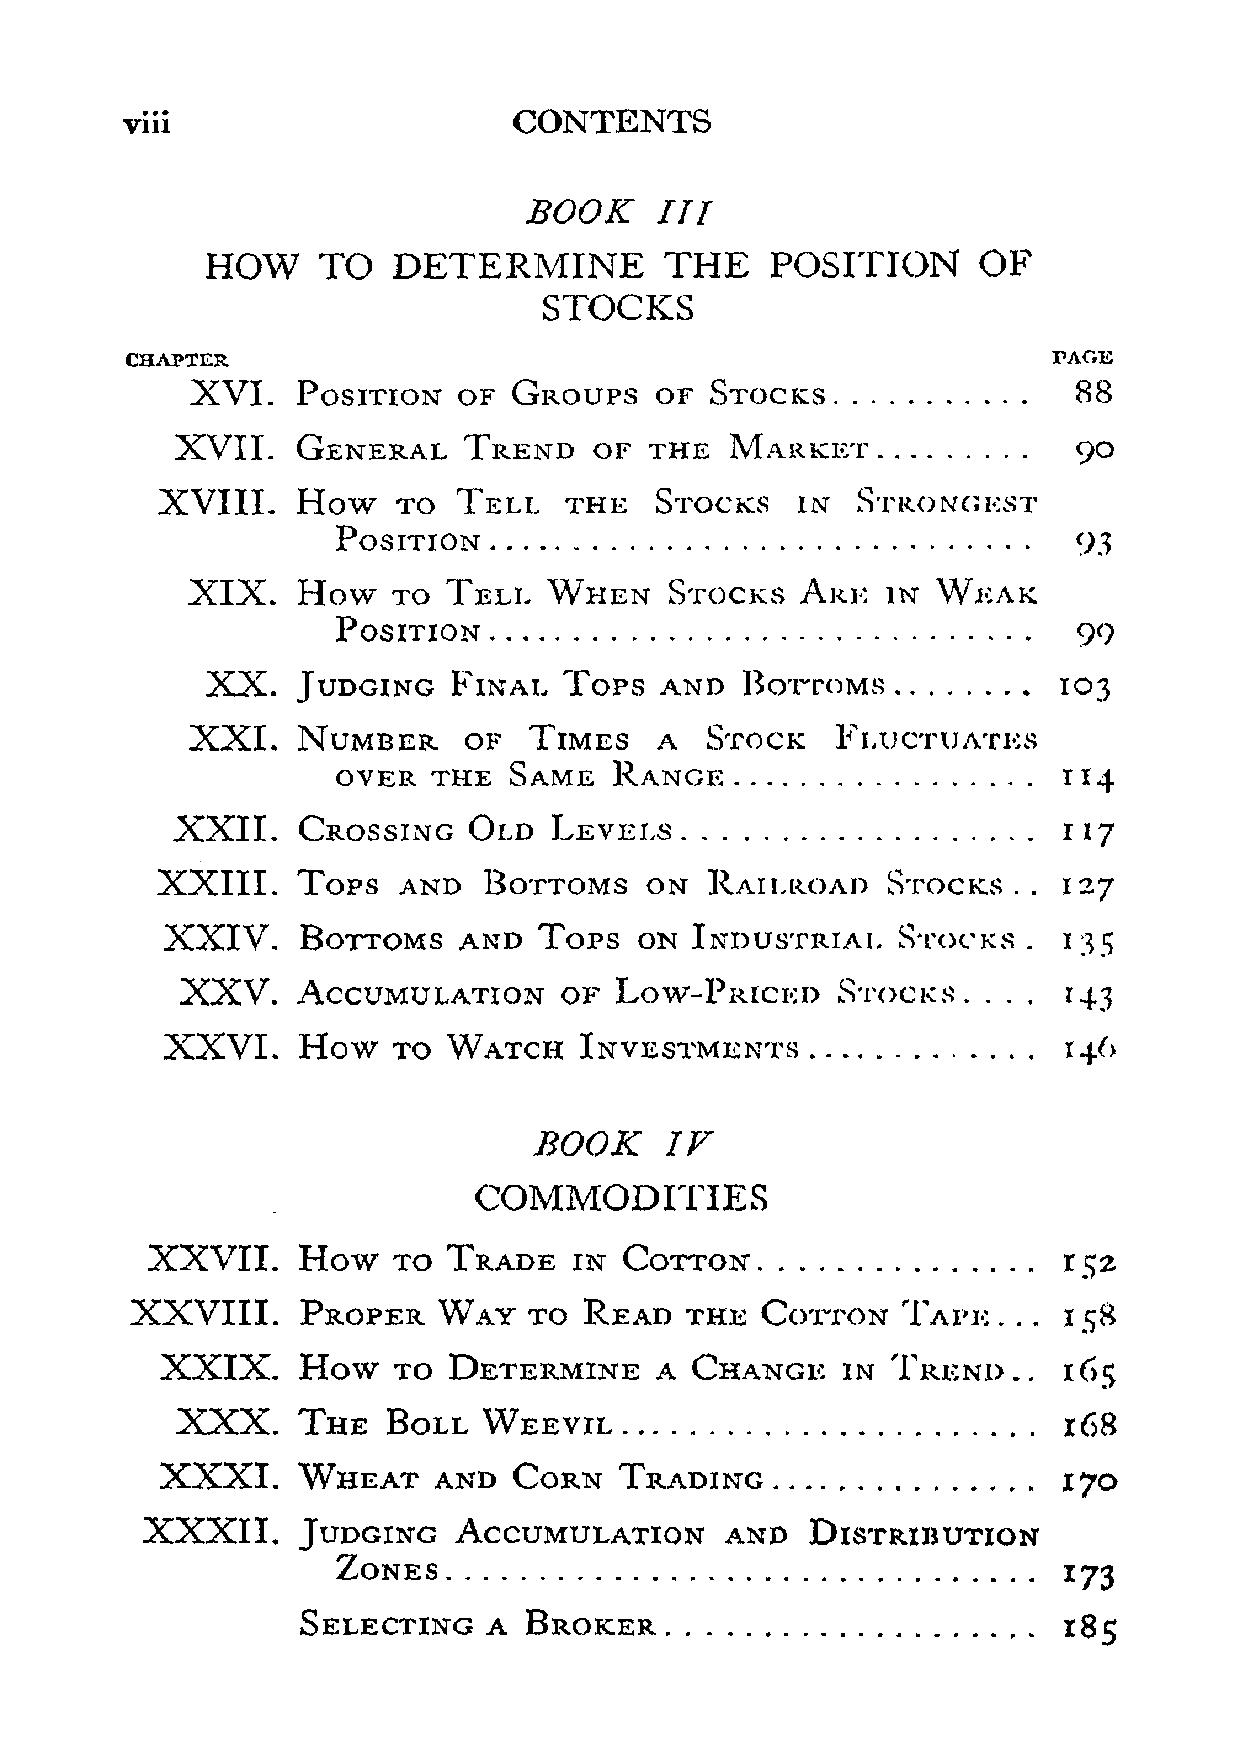TOC_chapter: (189, 183, 1051, 326), (170, 562, 1037, 654), (132, 1504, 1049, 1586), (144, 476, 1040, 557), (180, 713, 1041, 790), (156, 910, 1028, 962), (156, 1342, 1012, 1392), (125, 1287, 1001, 1333), (169, 969, 965, 1017), (178, 365, 836, 419), (462, 1106, 784, 1215), (146, 864, 1002, 905), (156, 1023, 804, 1072), (195, 660, 887, 705), (146, 1225, 756, 1275), (164, 427, 874, 468), (150, 1452, 770, 1496), (169, 798, 683, 845), (285, 1598, 658, 1651), (178, 1401, 617, 1444)
TOC_pagenumber: (1052, 1290, 1125, 1339), (1059, 1349, 1127, 1397), (1053, 1241, 1125, 1284), (1056, 1609, 1129, 1651), (1059, 1397, 1129, 1440), (1062, 1550, 1125, 1596), (1059, 1457, 1125, 1500), (1059, 862, 1117, 910), (1053, 754, 1118, 797), (1049, 666, 1125, 701), (1059, 921, 1121, 962), (1063, 1027, 1121, 1071), (1070, 608, 1121, 656), (1056, 809, 1115, 849), (1062, 976, 1113, 1019), (1075, 521, 1113, 564), (1068, 372, 1117, 399), (1079, 433, 1113, 466)
chapter: (495, 97, 717, 142)
